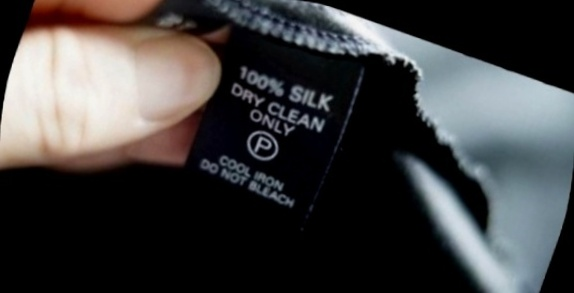dry_clean_any_solvent_except_trichloroethylene: (238, 121, 290, 170)
